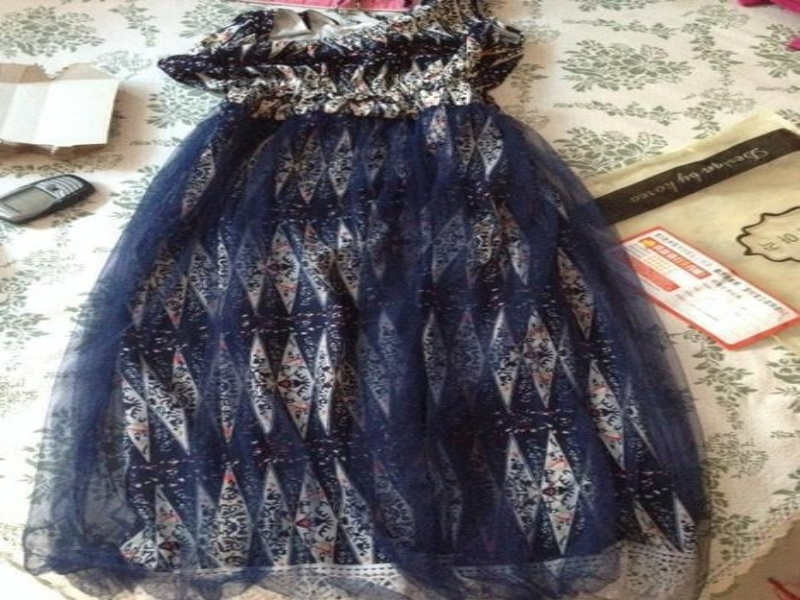vest_dress: (17, 0, 713, 599)
